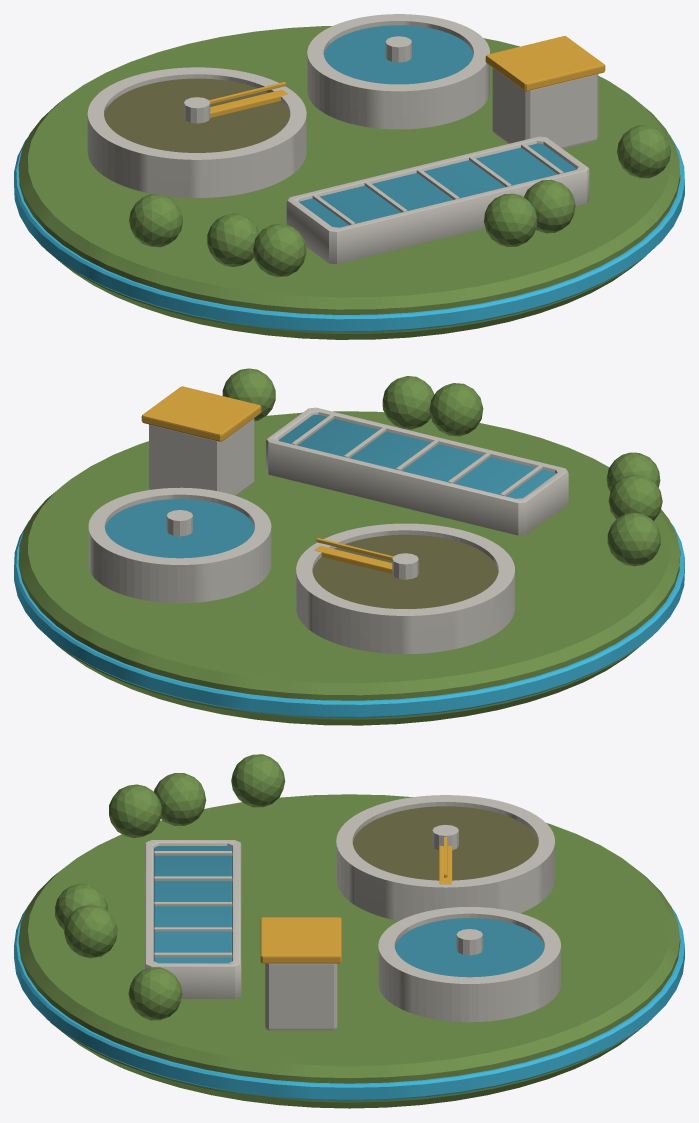
The model's file is cuenca_ptar.src.glb.
3 renders of one model, top to bottom at view 1: azimuth 30°, elevation 25°; view 2: azimuth 150°, elevation 25°; view 3: azimuth 270°, elevation 25°, orthographic.
Visible parts, largest first — view 1: geo_base, geo_detail, geo_water, geo_clarifier; view 2: geo_base, geo_detail, geo_water, geo_clarifier; view 3: geo_base, geo_detail, geo_water, geo_clarifier.
Part boxes in pixels (left/top/right/bottom): geo_base: left=14, top=26, right=684, bottom=339; geo_detail: left=87, top=14, right=670, bottom=277; geo_water: left=104, top=25, right=576, bottom=227; geo_clarifier: left=209, top=82, right=287, bottom=117; geo_base: left=14, top=411, right=684, bottom=725; geo_detail: left=88, top=368, right=662, bottom=654; geo_water: left=105, top=414, right=555, bottom=608; geo_clarifier: left=314, top=538, right=393, bottom=573; geo_base: left=14, top=794, right=684, bottom=1108; geo_detail: left=55, top=754, right=560, bottom=1030; geo_water: left=154, top=806, right=544, bottom=977; geo_clarifier: left=439, top=837, right=452, bottom=884.
Size of the model in its own units: 0.1116 by 0.0223 by 0.1116.
